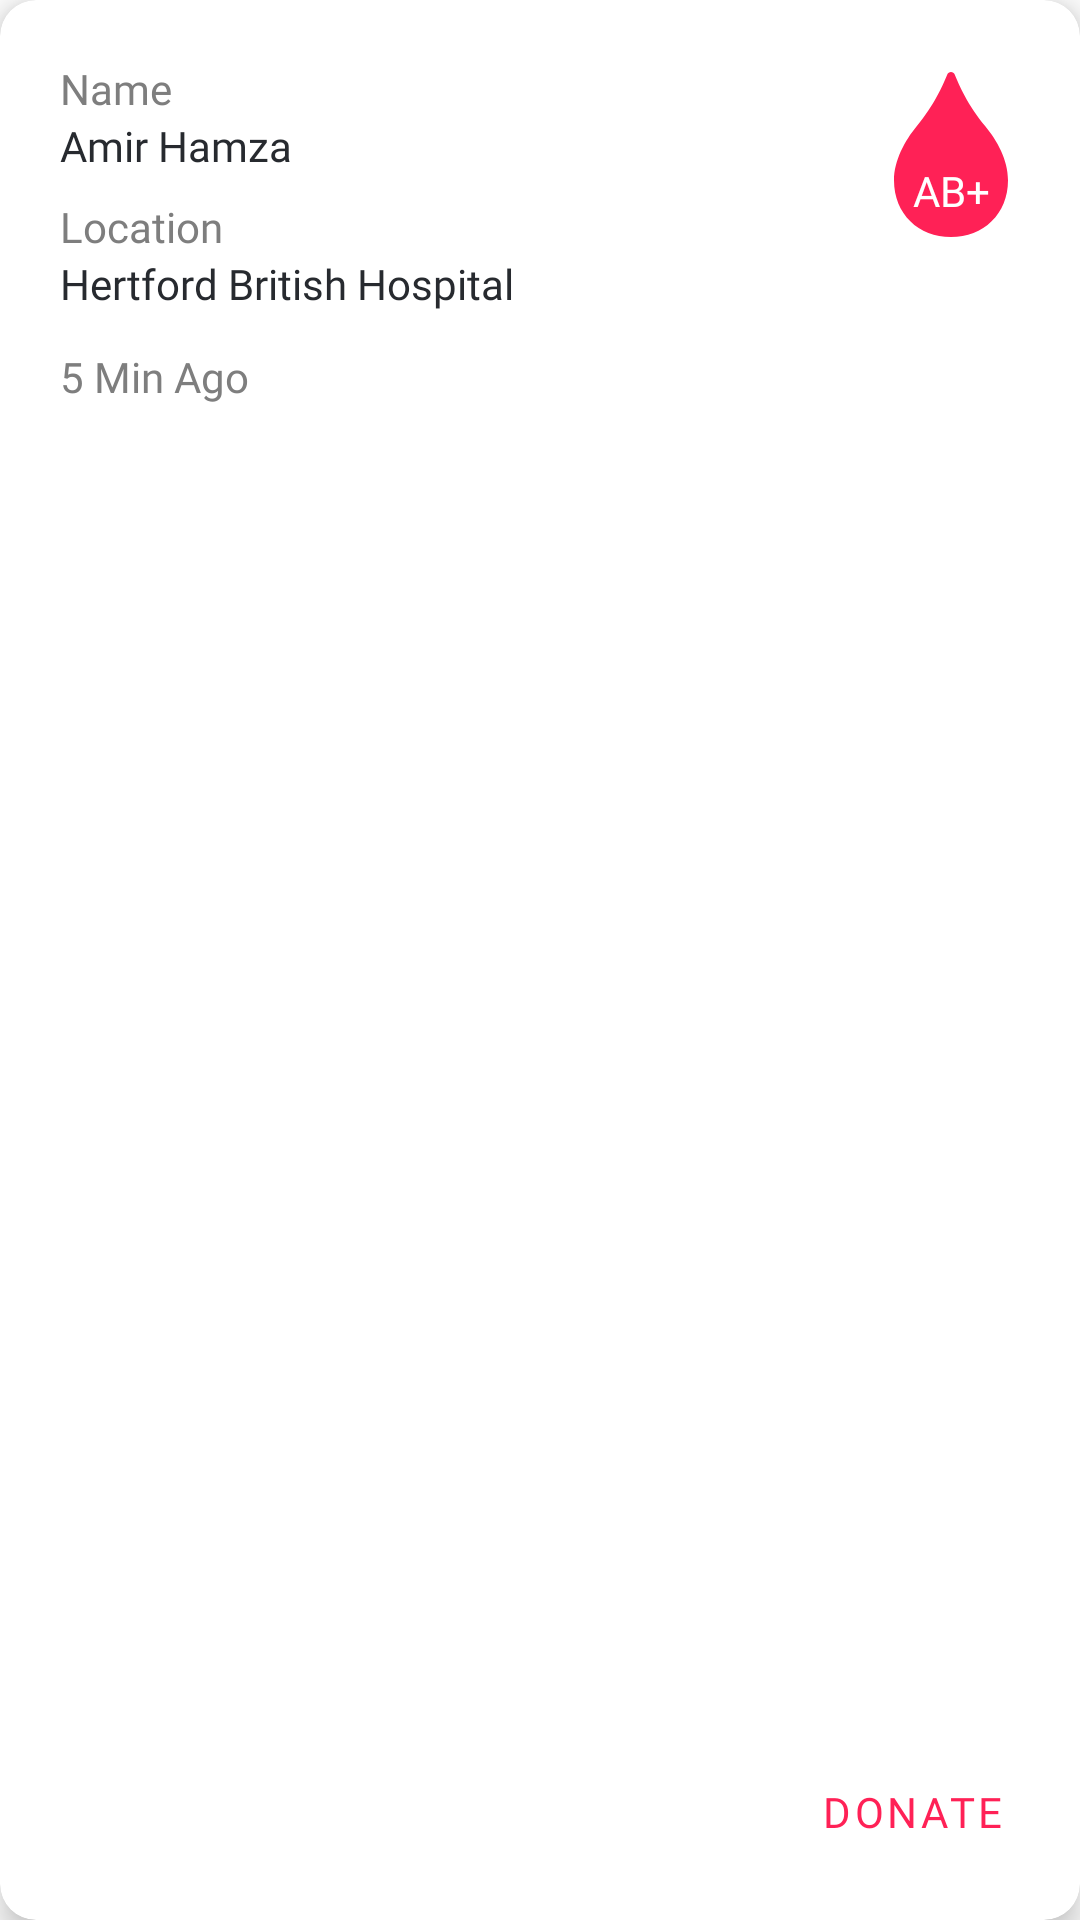

Locate icon controls on the screen. Image size 1080px x 1920px, boxes as {"left": x1, "top": y1, "right": x2, "bottom": y2}.
blood group: {"left": 894, "top": 72, "right": 1008, "bottom": 237}
